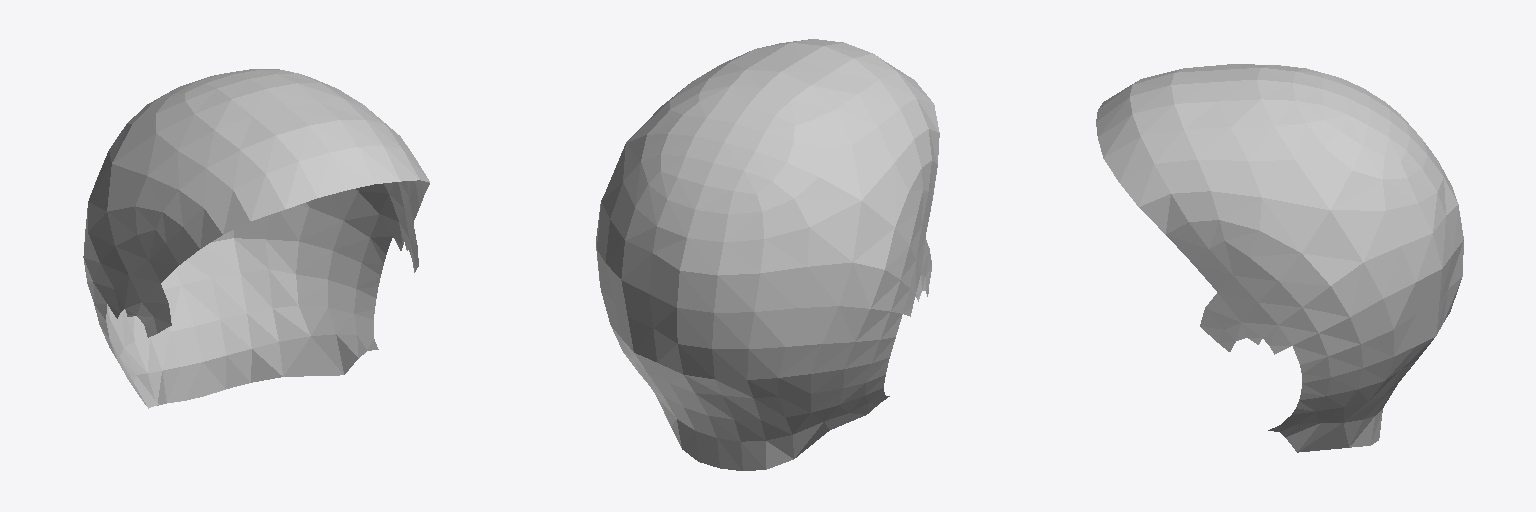
Rendered from scull.obj.
3 renders of one model, left to right at view 1: azimuth 30°, elevation 25°; view 2: azimuth 150°, elevation 25°; view 3: azimuth 270°, elevation 25°, orthographic.
Bounding box in the file's own units: 4.36 × 5.08 × 4.82.